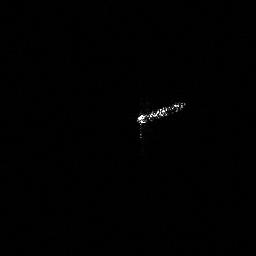ship: (136, 100, 185, 124)
